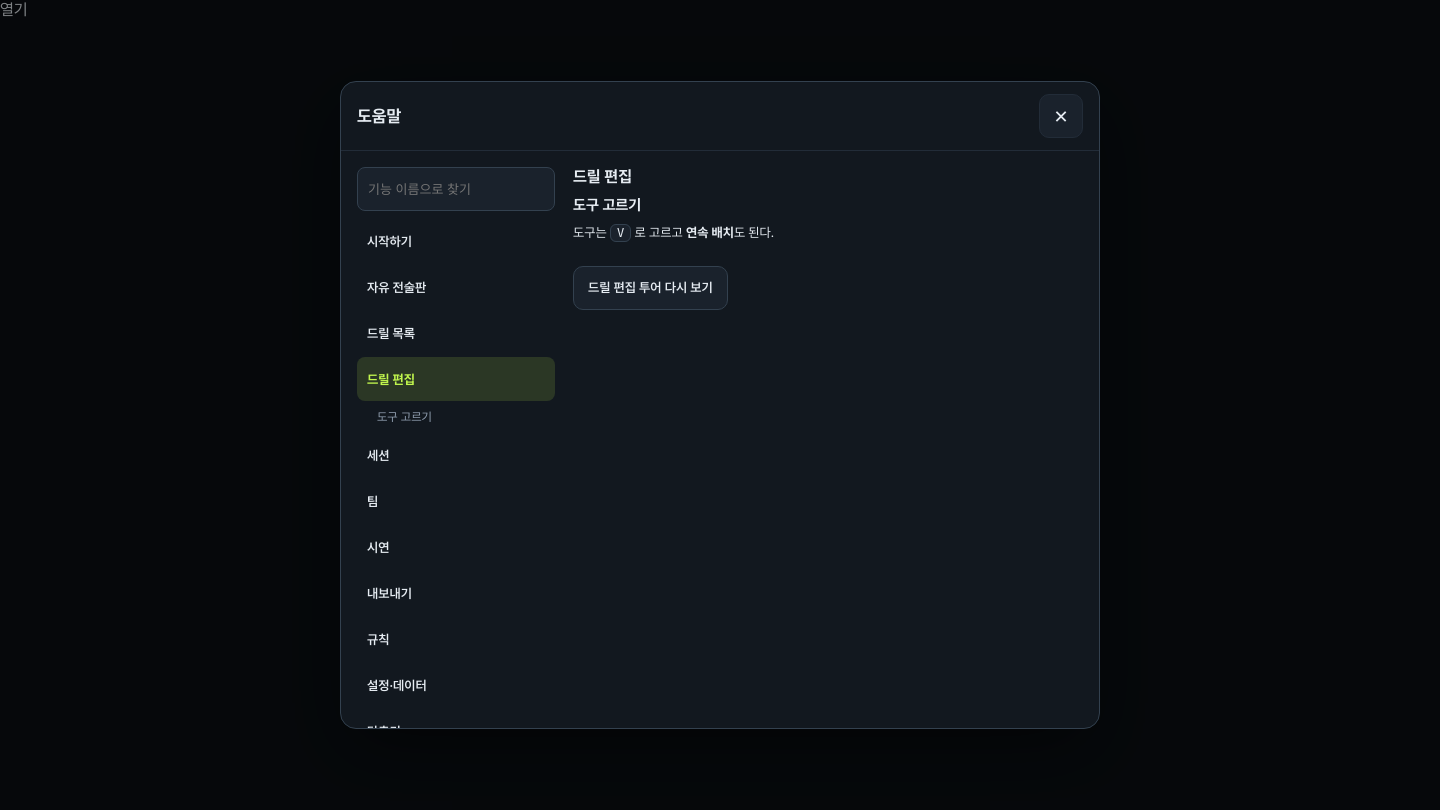
it: HelpCenter › 찾기는 지금 섹션 밖의 주제도 찾아내고, 없으면 없다고 말한다
In the search field named "도움말에서 찾기": coordinates (456, 189) [357,167,555,211], type "구획"
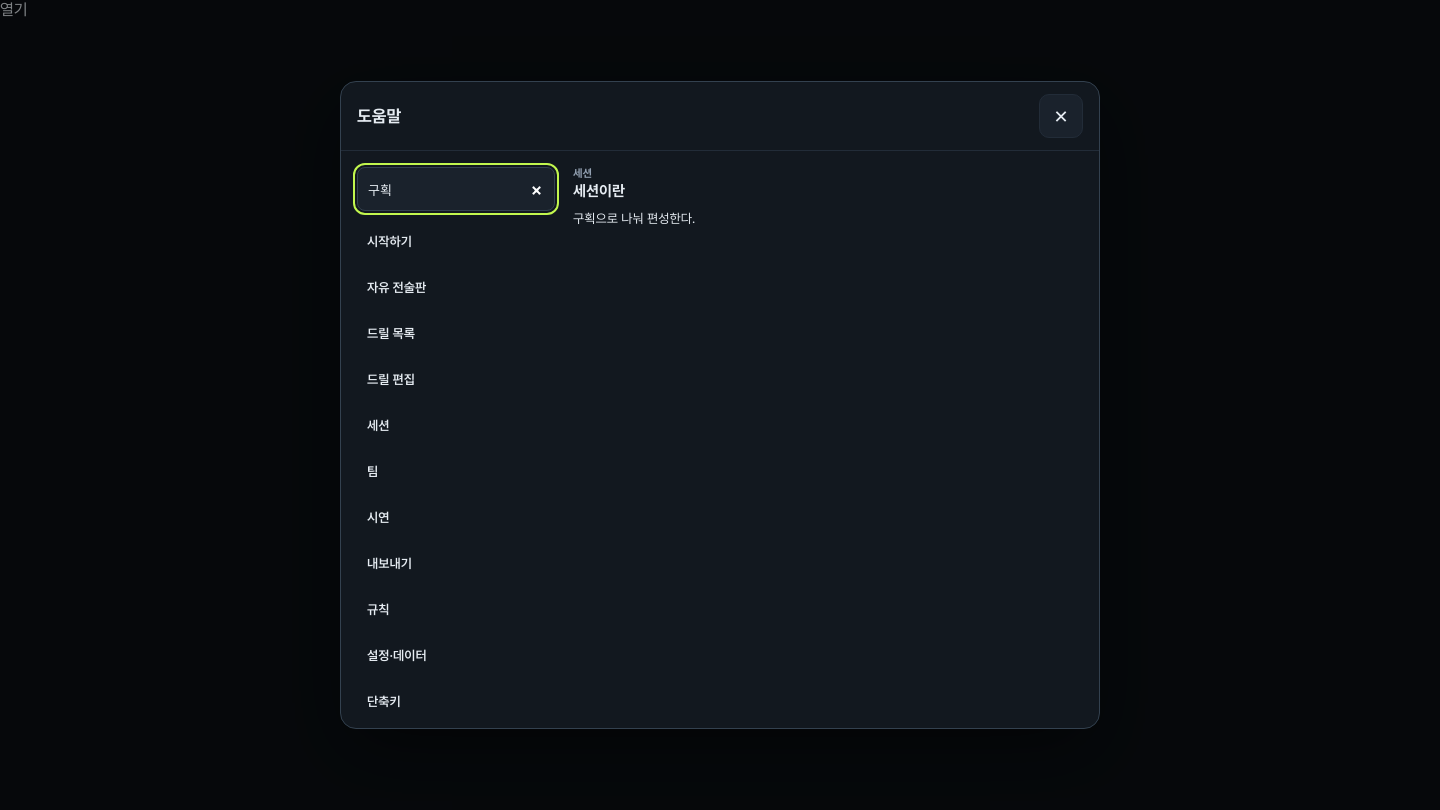
Expected: the heading "세션이란" is shown, [573,182,625,200]
Expected: the button "도구 고르기" is gone
Replace the text in the search field named "도움말에서 찾기" with "없는낱말": coordinates (456, 189) [357,167,555,211]
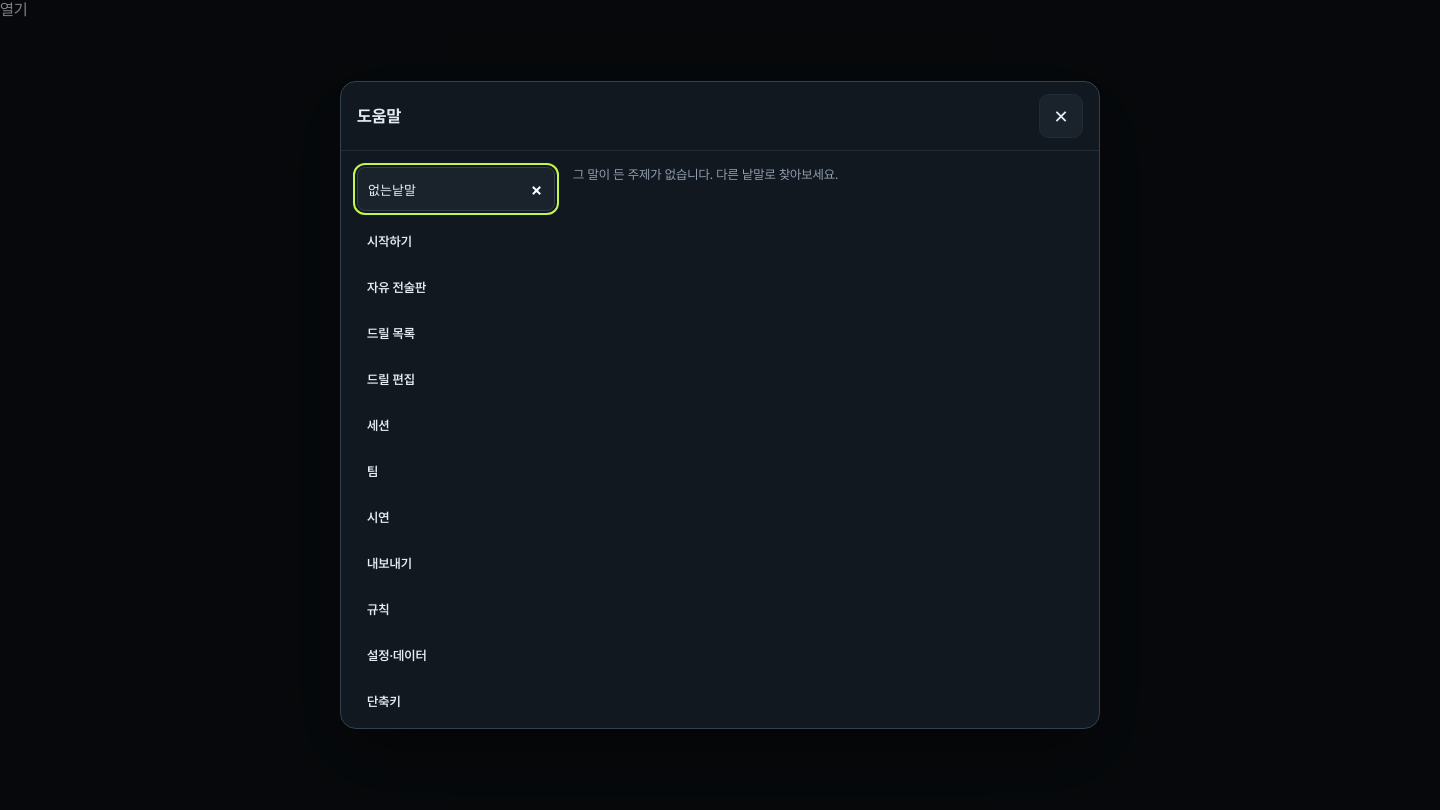
Expected: the text "그 말이 든 주제가 없습니다. 다른 낱말로 찾아보세요." is shown, [573,167,838,182]
